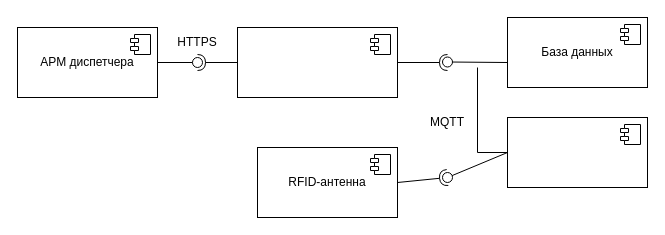
Some shapes in this 665 by 235 pixel diagram are drawn without their labels. Each missing label, with the centre of its shape:
MQTT-брокер: (577,152)
Серверное приложение: (317,62)
